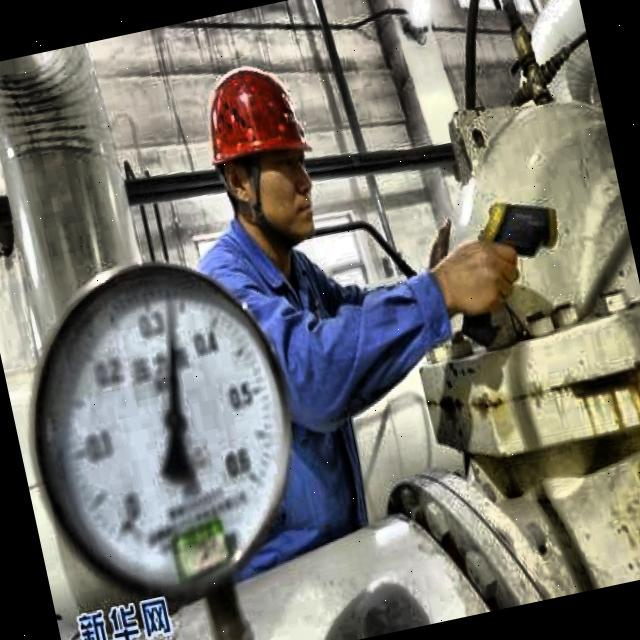helmet: (186, 44, 340, 265)
